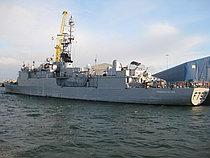MIL_Ship: (4, 60, 210, 107)
